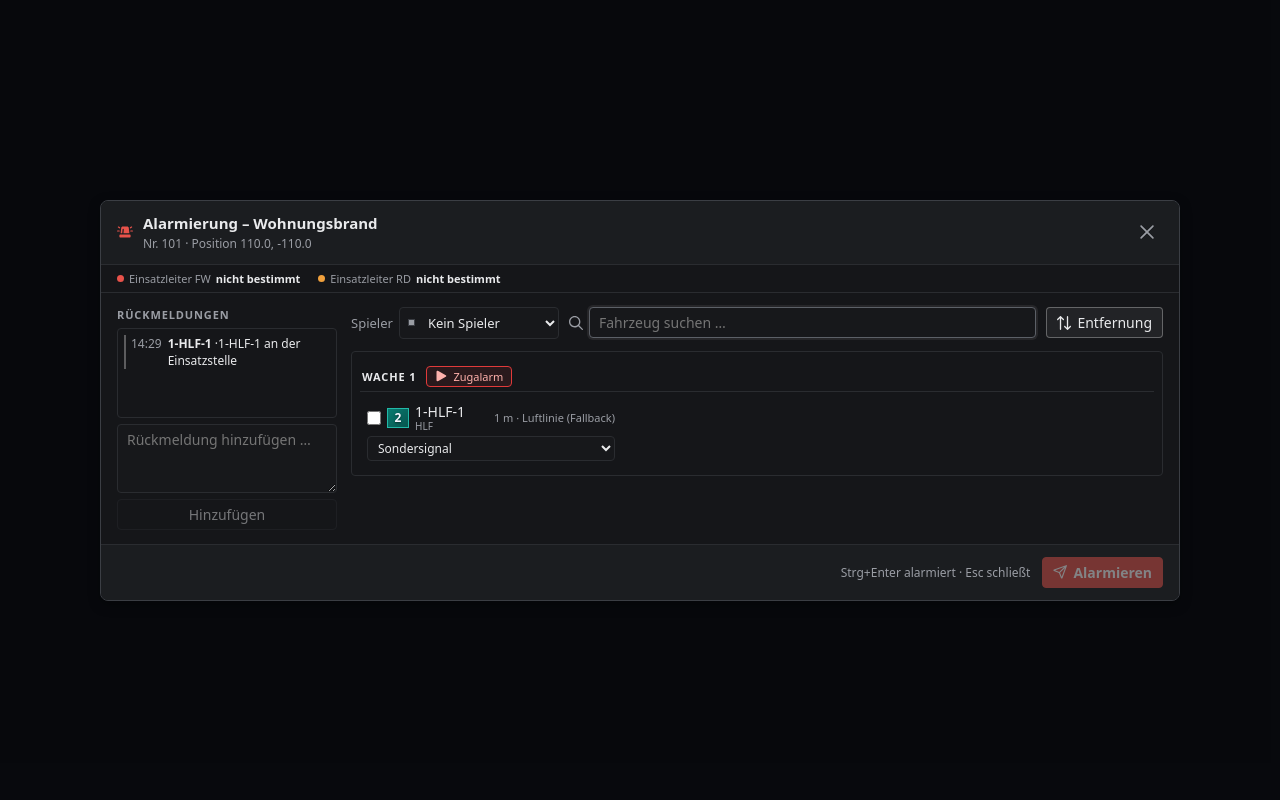
it: Alarmierungsdialog › prüft den Fahrzeugstatus unmittelbar vor der Alarmierung erneut
Click the checkbox labelled "2 1-HLF-1 HLF 1 m · Luftlinie (Fallback)" at (374, 418), box [367,411,381,425]
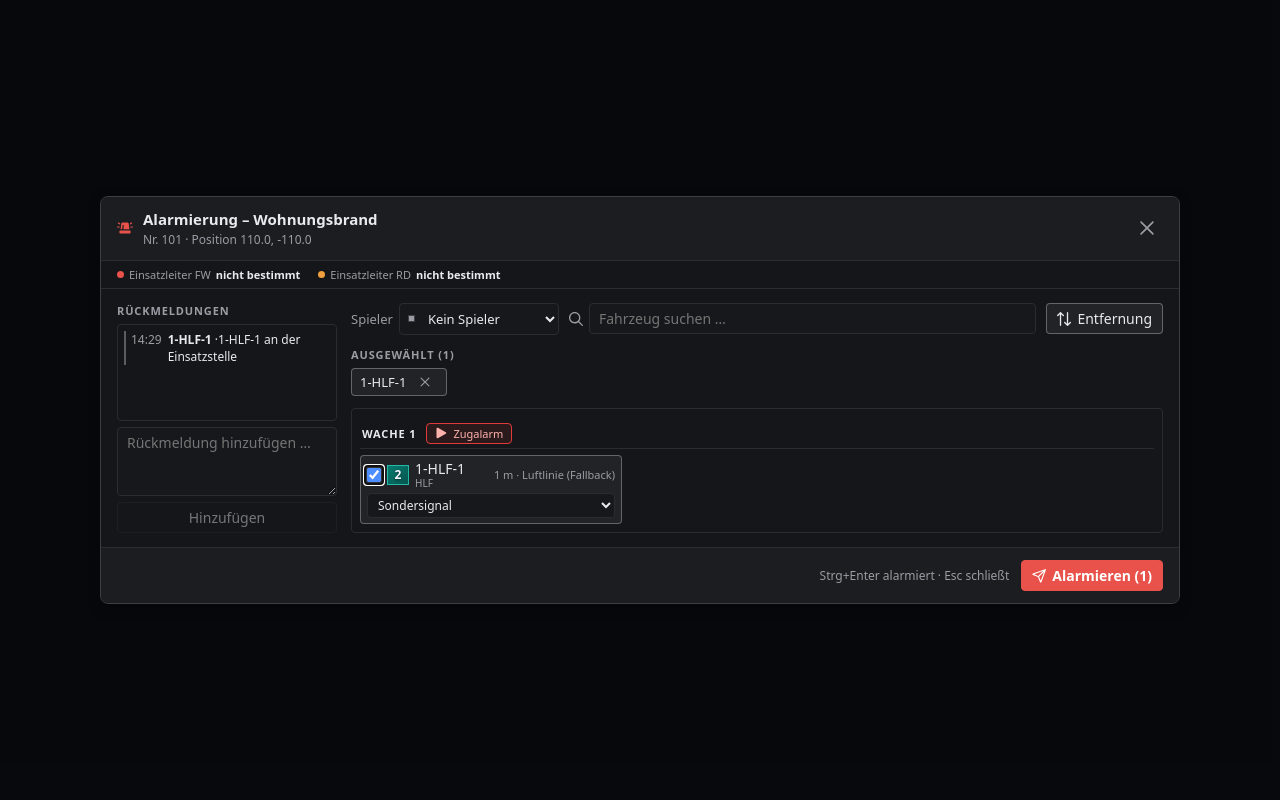
Click the button "Alarmieren (1)" at (1092, 576), box [1021,560,1163,591]
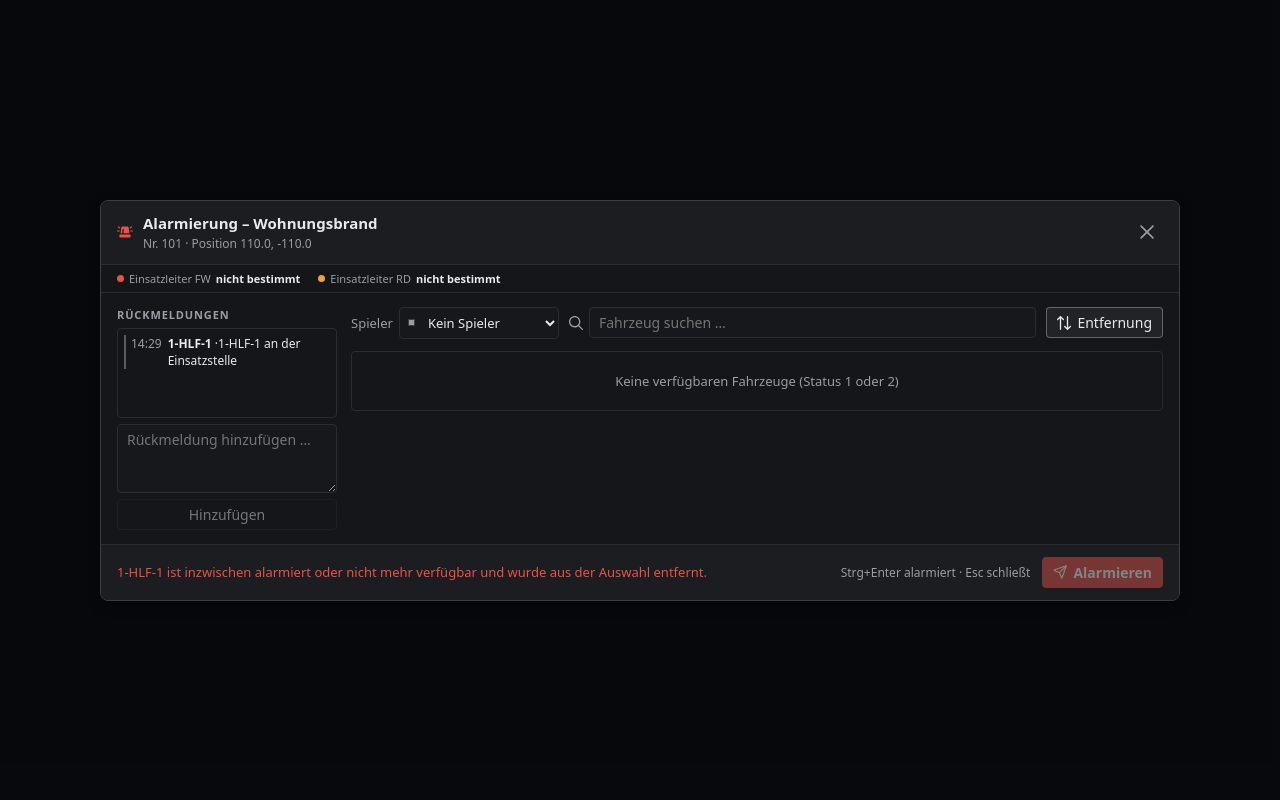
Check: the text "inzwischen alarmiert oder nicht mehr verfügbar" is shown, box [117,563,707,581]
